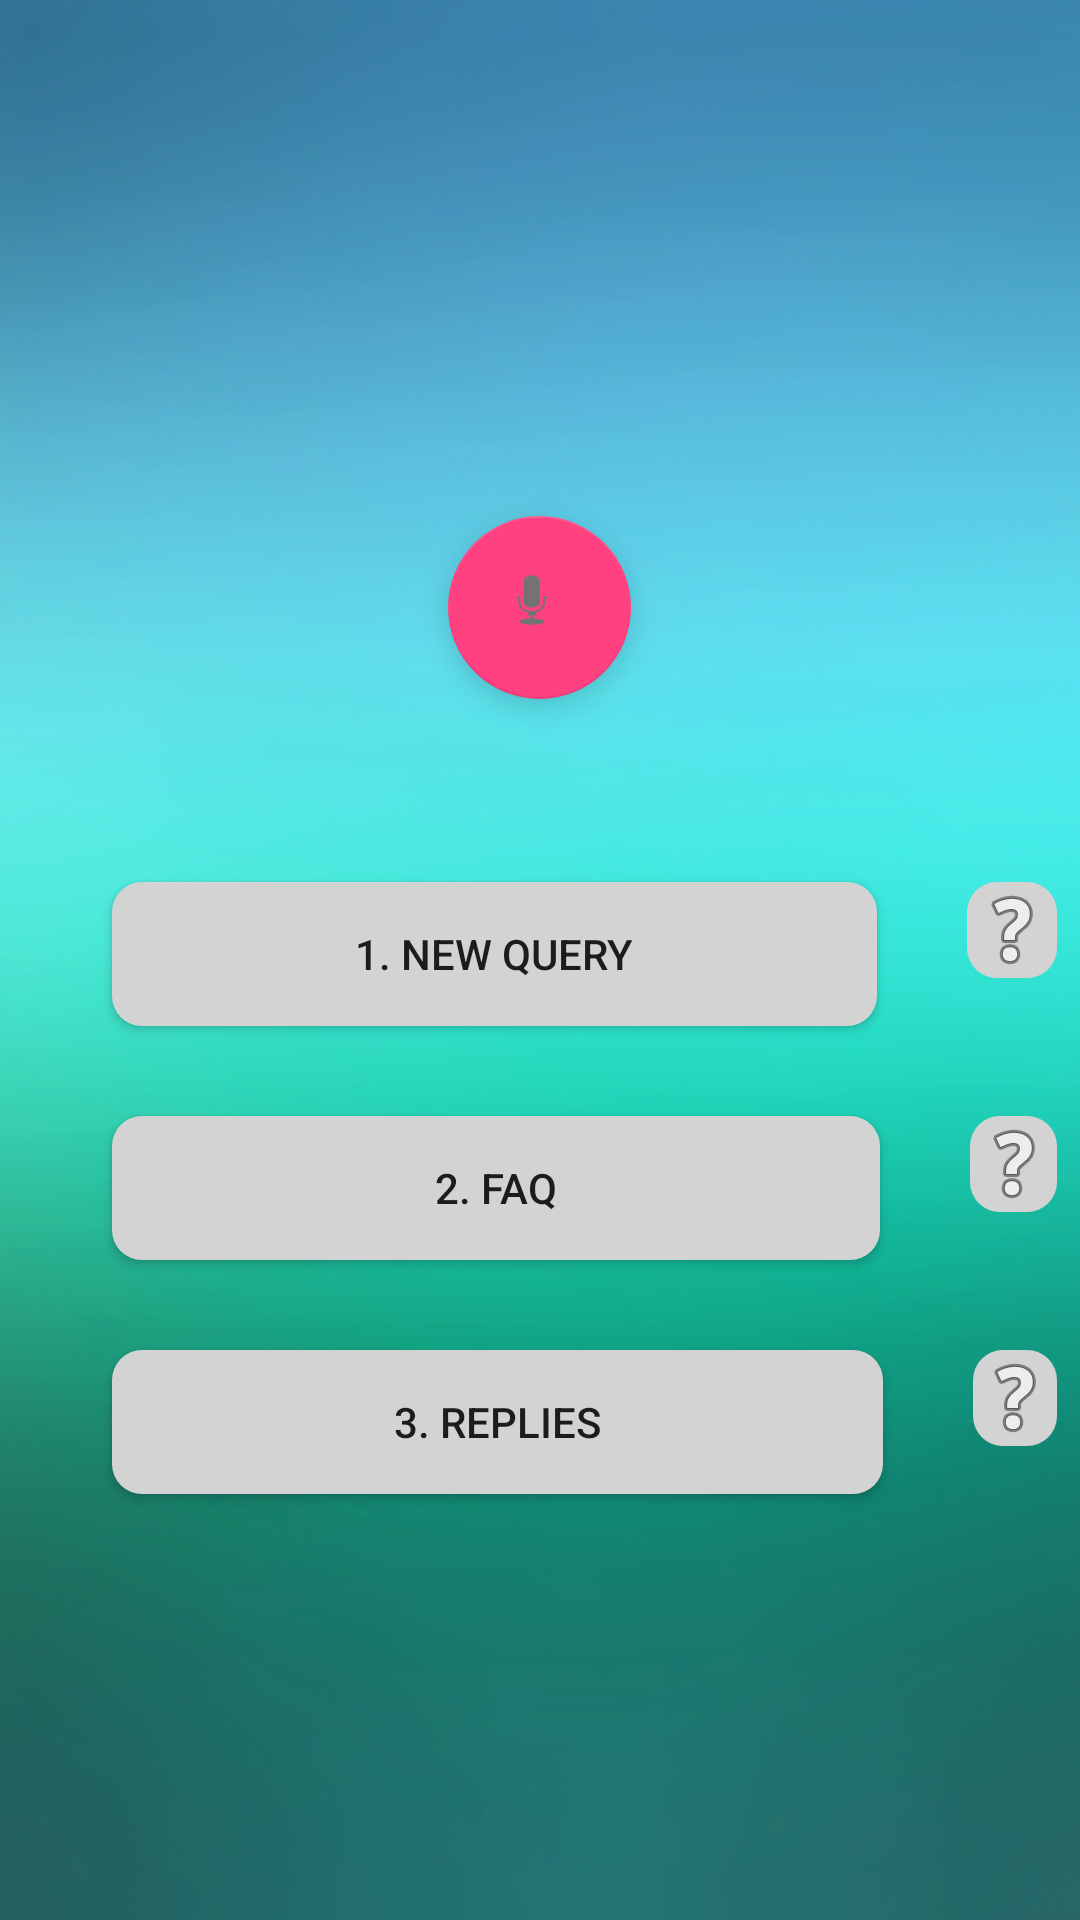

Where to tap for icons on this 1080w x 1920h app screen, as (x=x, y=y):
help: (x=1012, y=930), (x=1013, y=1164), (x=1015, y=1398)
speak now: (x=539, y=607)
